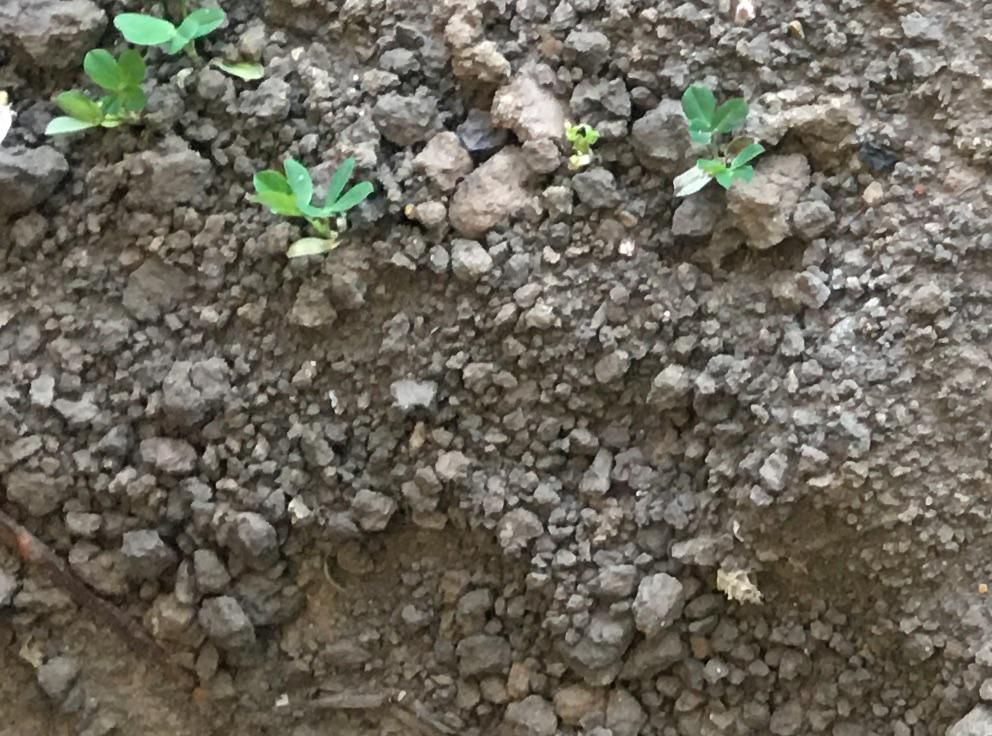block: (1, 1, 109, 85), (450, 144, 547, 233), (490, 67, 579, 162), (729, 150, 811, 250)
